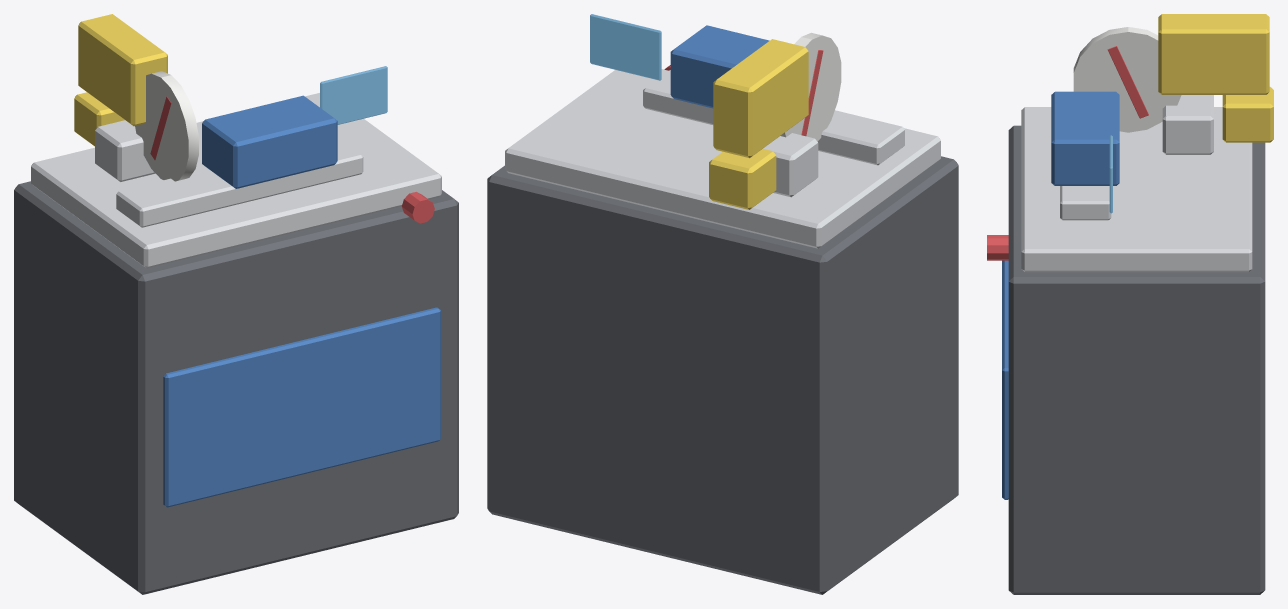
Rendered from ice-hockey-arena-and-locker-room-skate-sharpening-mach-9ea5b009__33738.glb.
The picture shows the model from 3 angles, left to right: view 1: azimuth 30°, elevation 25°; view 2: azimuth 150°, elevation 25°; view 3: azimuth 270°, elevation 25°; orthographic projection. The views are drawn at different scales.
Visible parts, largest first — view 1: skate-sharpening-machine, grind-wheel/white; view 2: skate-sharpening-machine, grind-wheel/white; view 3: skate-sharpening-machine, grind-wheel/white, grind-wheel/red.
Boxes of the visible parts, x1,y1,x2,y2 form: skate-sharpening-machine: (14, 14, 458, 594); grind-wheel/white: (135, 71, 198, 181); skate-sharpening-machine: (487, 14, 958, 594); grind-wheel/white: (780, 32, 841, 141); skate-sharpening-machine: (987, 14, 1273, 594); grind-wheel/white: (1073, 27, 1181, 132); grind-wheel/red: (1107, 46, 1148, 118).
Bounding box in the file's own units: 0.86 × 1.19 × 0.67.
